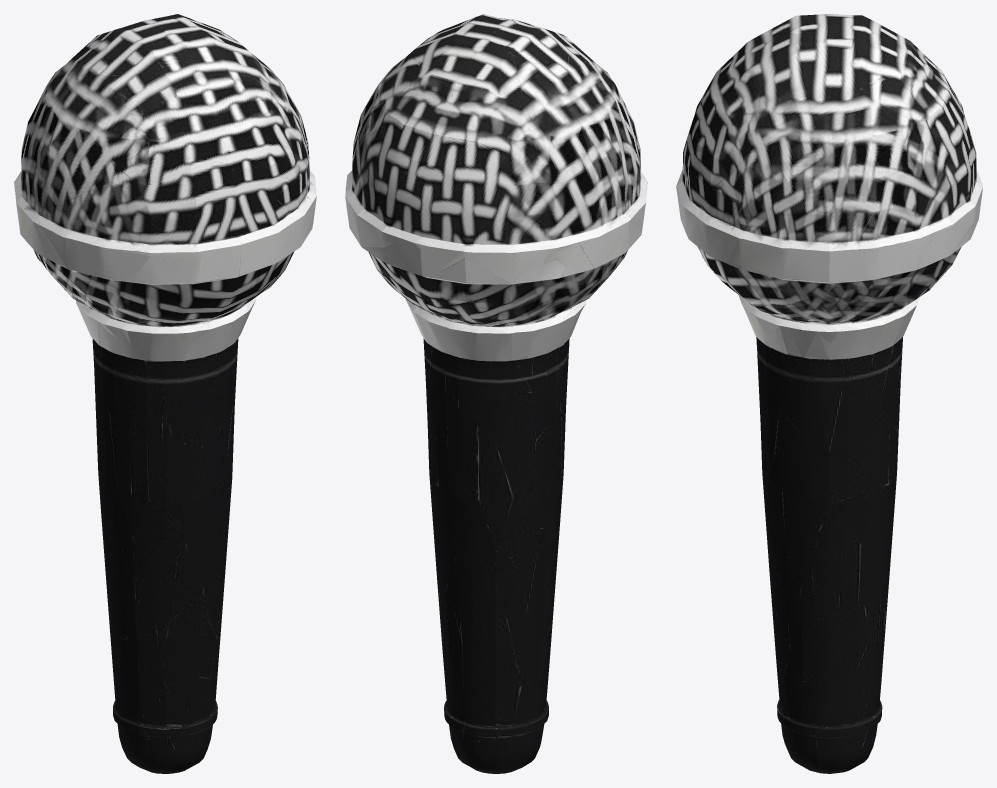
The model's file is mic.glb.
The picture shows the model from 3 angles, left to right: view 1: azimuth 30°, elevation 25°; view 2: azimuth 150°, elevation 25°; view 3: azimuth 270°, elevation 25°; orthographic projection.
Size of the model in its own units: 0.7131 by 1.9 by 0.7123.
1 material, 1 textured.
